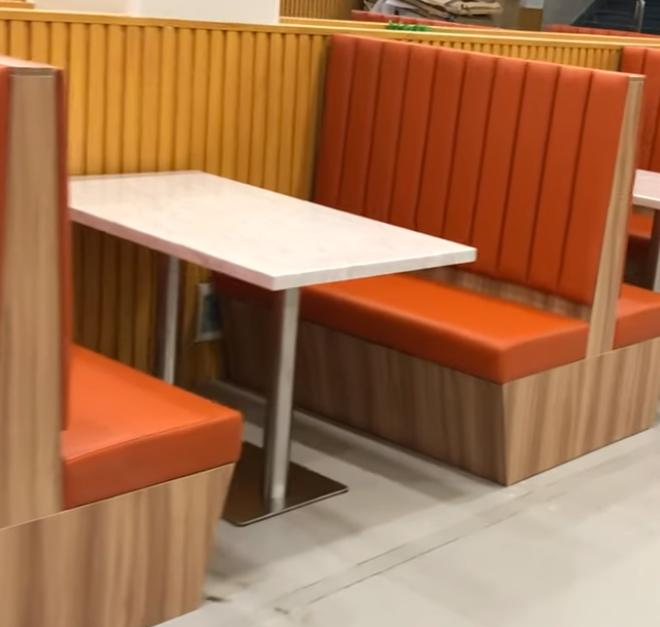Clean Table: (68, 121, 492, 371)
